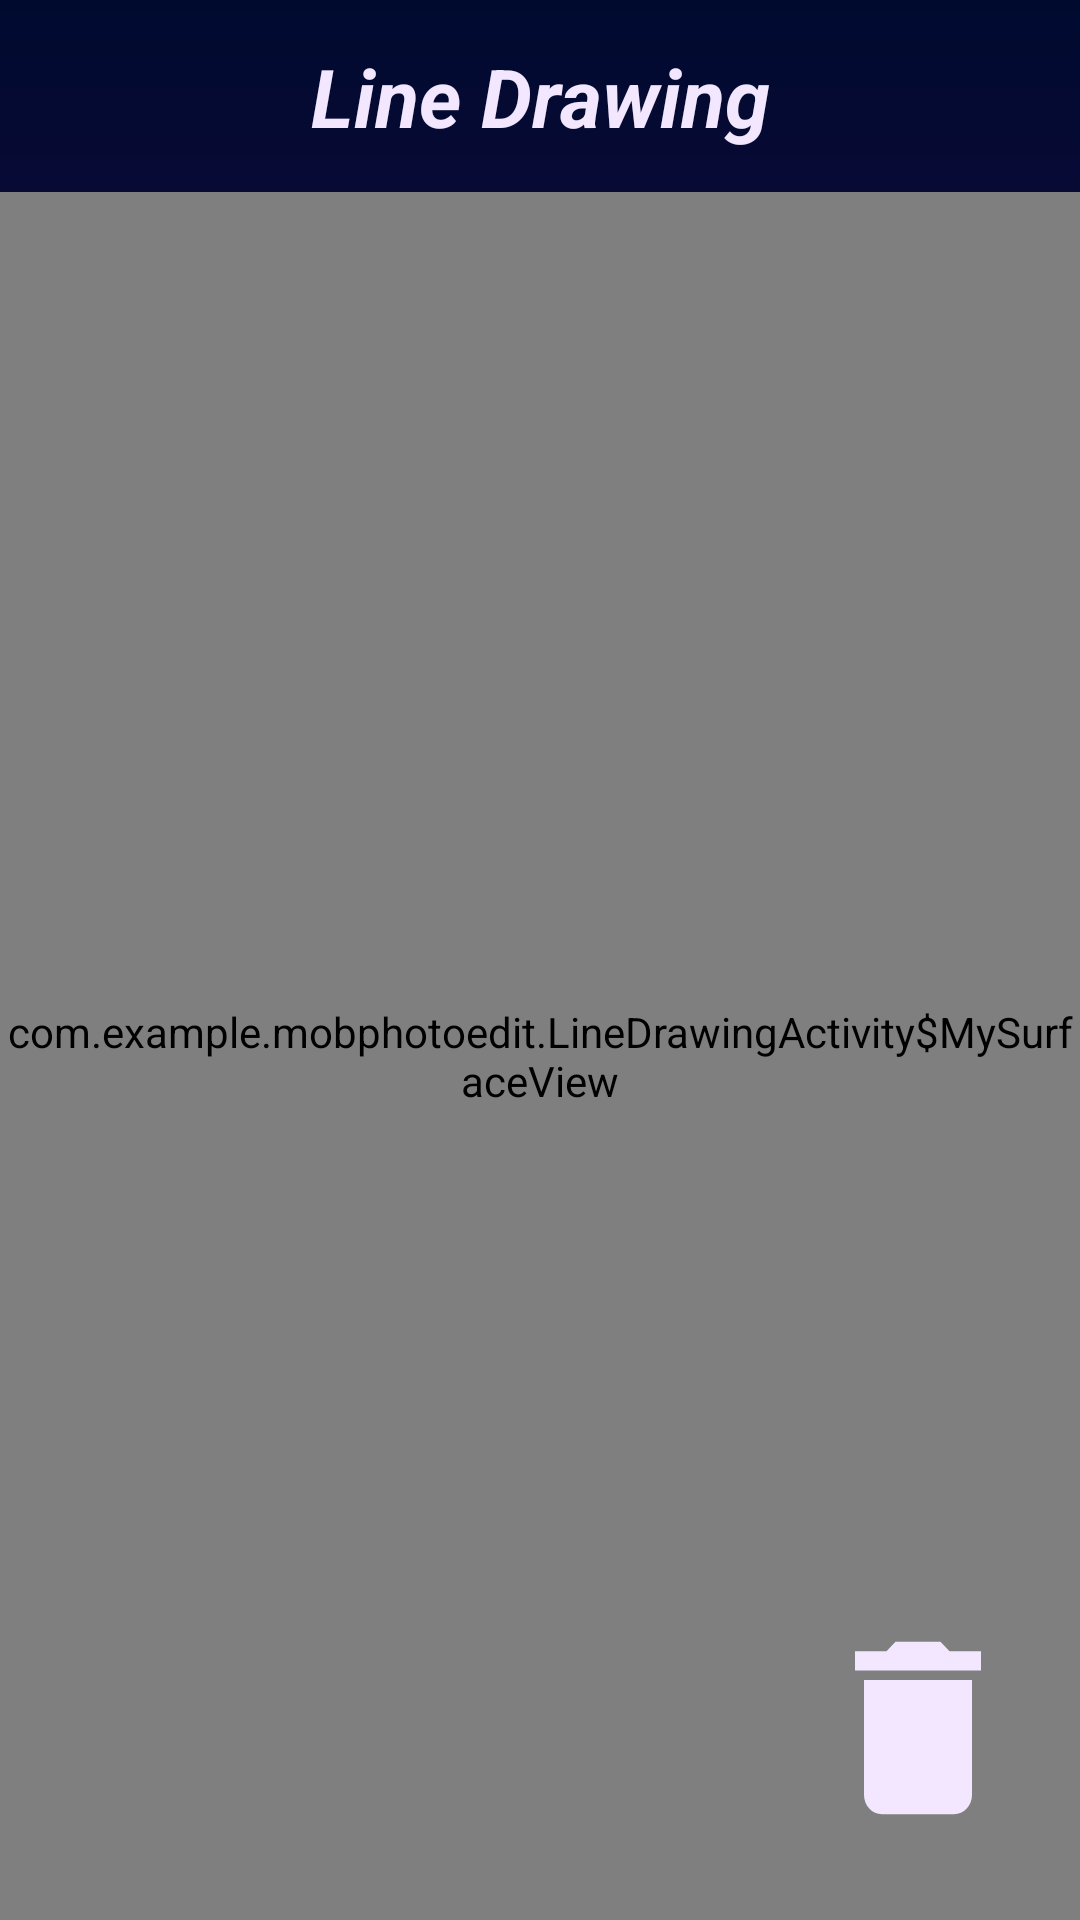

Icons on this 1080w x 1920h Android screen, each with the point to tap as [x,y]:
Clean the screen: [918,1728]
